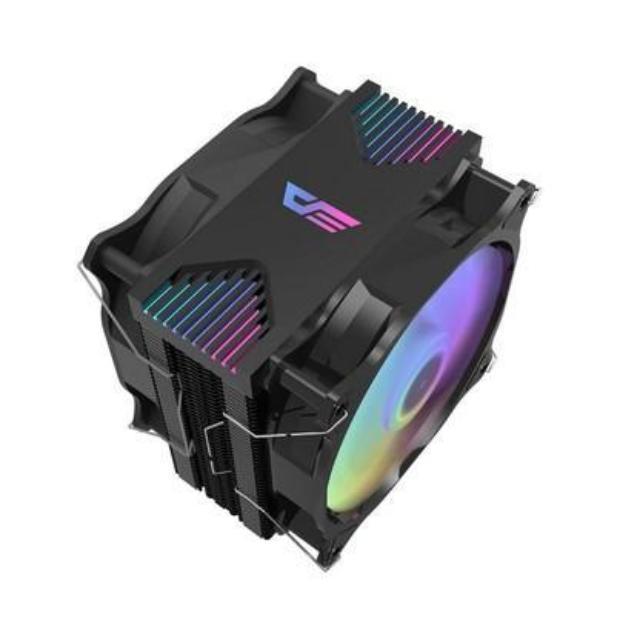CPU_Fan: (78, 66, 536, 572)
